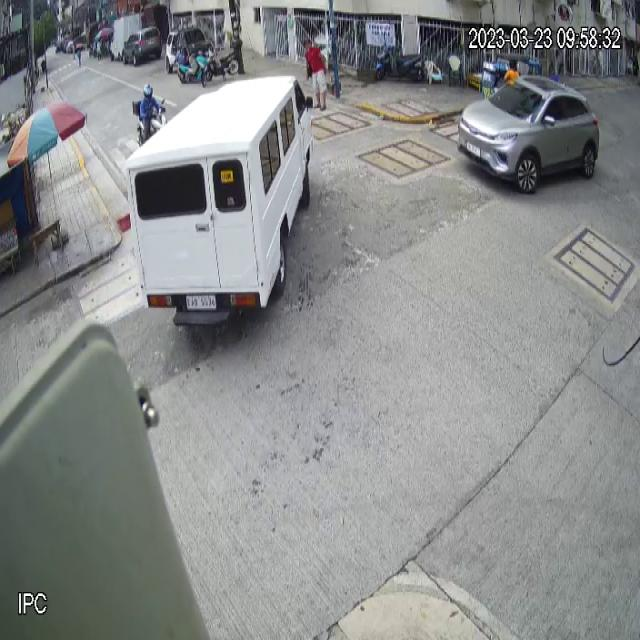Car: (458, 72, 600, 196)
Van: (125, 75, 315, 332)
